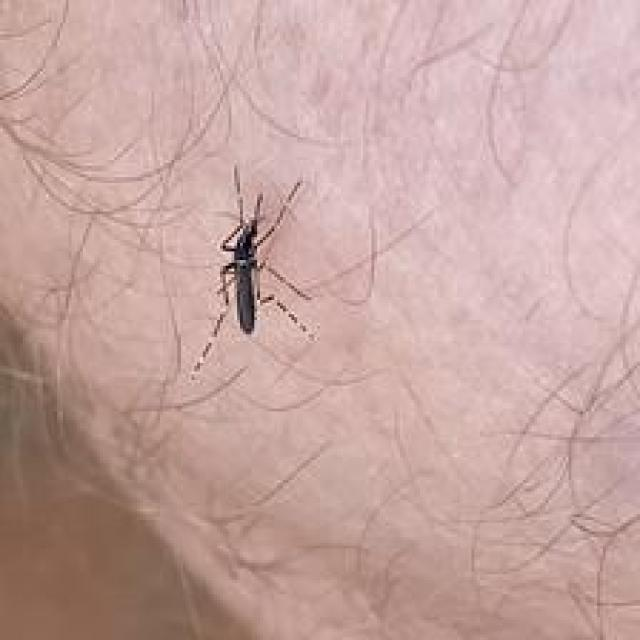Aedes albopictus: (190, 164, 319, 376)
